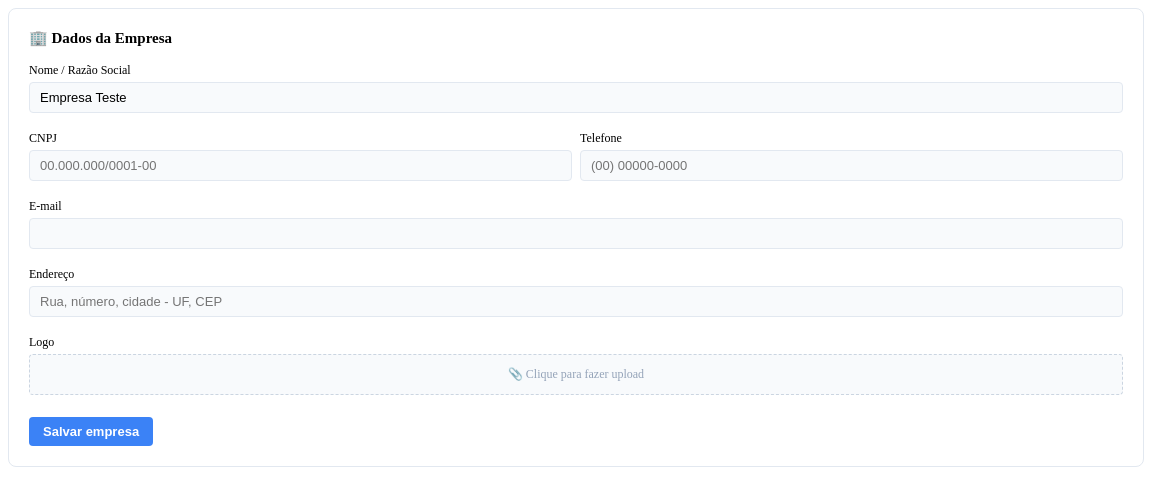
Test: EmpresaCard — salvar › shows error message on API failure
expect the field showing "Empresa Teste" below "Nome / Razão Social" is shown: met, box [29,82,1123,113]
Click the button "Salvar empresa" at coordinates (91, 432), box [29,417,153,446]
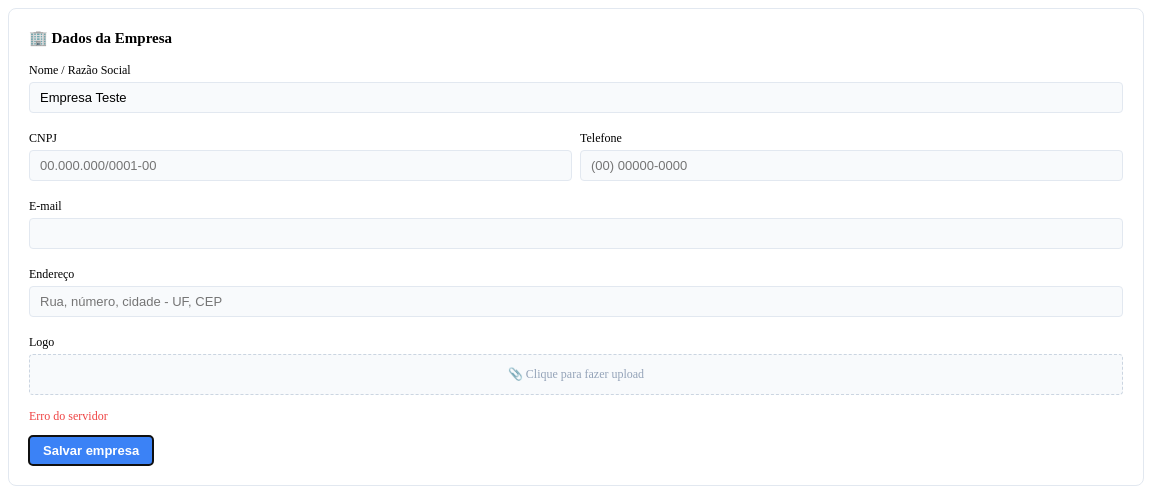
expect the text "Erro do servidor" is shown: met, box [29,409,108,423]
